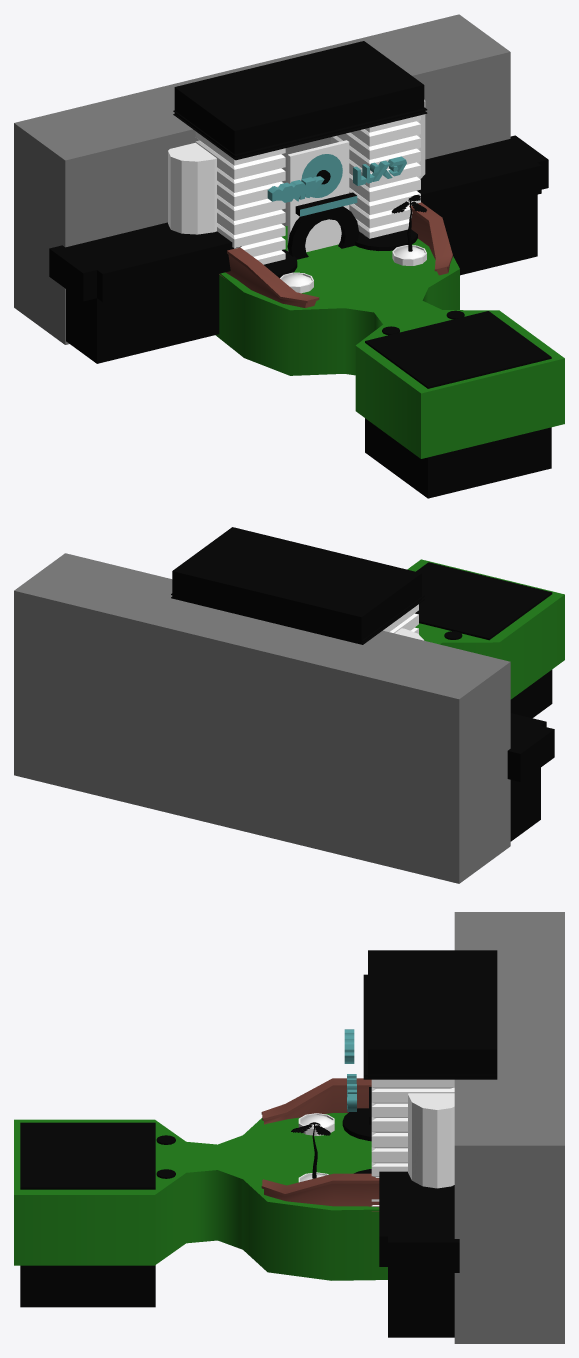
The model's file is RnC Exported.obj.
3 views of the same model, one above another, from view 1: azimuth 30°, elevation 25°; view 2: azimuth 150°, elevation 25°; view 3: azimuth 270°, elevation 25° (orthographic). The views are drawn at different scales.
Visible parts, largest first — view 1: Back_cube, Floor, LeftBackWall, Pillar_Roof, StartRoom, Pillars, pasted__pCube7 RighBackWall, pasted__pCylinder2 CylinderTowerLeft, Barrier, ClockBack, Door, pCylinder7 (+5 smaller); view 2: Back_cube, Pillar_Roof, StartRoom, Floor, LeftBackWall, Pillars; view 3: Back_cube, Floor, Pillar_Roof, StartRoom, pasted__pCube7 RighBackWall, Barrier, CylinderTower, Pillars, pCylinder7, pCylinder1.
Boxes of the visible parts, x1=… form: Back_cube: x1=14, y1=14, x2=510, y2=344; Floor: x1=215, y1=226, x2=564, y2=458; LeftBackWall: x1=49, y1=222, x2=241, y2=363; Pillar_Roof: x1=173, y1=41, x2=427, y2=160; StartRoom: x1=365, y1=311, x2=551, y2=498; Pillars: x1=195, y1=115, x2=420, y2=264; pasted__pCube7 RighBackWall: x1=417, y1=135, x2=548, y2=275; pasted__pCylinder2 CylinderTowerLeft: x1=168, y1=142, x2=218, y2=234; Barrier: x1=219, y1=202, x2=452, y2=307; ClockBack: x1=287, y1=140, x2=349, y2=252; Door: x1=287, y1=206, x2=359, y2=259; pCylinder7: x1=264, y1=229, x2=417, y2=277; Back_cube: x1=14, y1=553, x2=510, y2=883; Pillar_Roof: x1=171, y1=527, x2=424, y2=644; StartRoom: x1=415, y1=562, x2=552, y2=718; Floor: x1=407, y1=559, x2=564, y2=699; LeftBackWall: x1=507, y1=713, x2=554, y2=841; Pillars: x1=383, y1=604, x2=418, y2=633; Back_cube: x1=454, y1=912, x2=564, y2=1343; Floor: x1=14, y1=1113, x2=387, y2=1280; Pillar_Roof: x1=363, y1=950, x2=497, y2=1079; StartRoom: x1=20, y1=1122, x2=155, y2=1307; pasted__pCube7 RighBackWall: x1=379, y1=1171, x2=459, y2=1337; Barrier: x1=261, y1=1078, x2=379, y2=1211; CylinderTower: x1=408, y1=1093, x2=454, y2=1188; Pillars: x1=371, y1=1079, x2=454, y2=1206; pCylinder7: x1=342, y1=1108, x2=371, y2=1173; pCylinder1: x1=298, y1=1113, x2=334, y2=1182.
Size of the model in its own units: 59.42 by 31.31 by 56.69.
